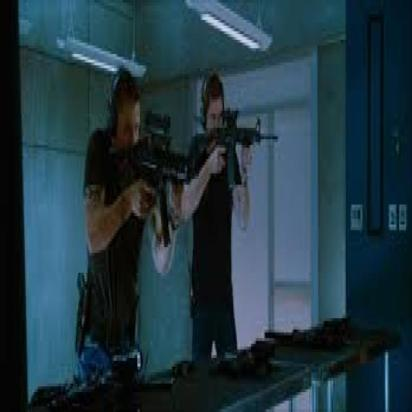Gun: (104, 107, 200, 250), (196, 110, 280, 184)
